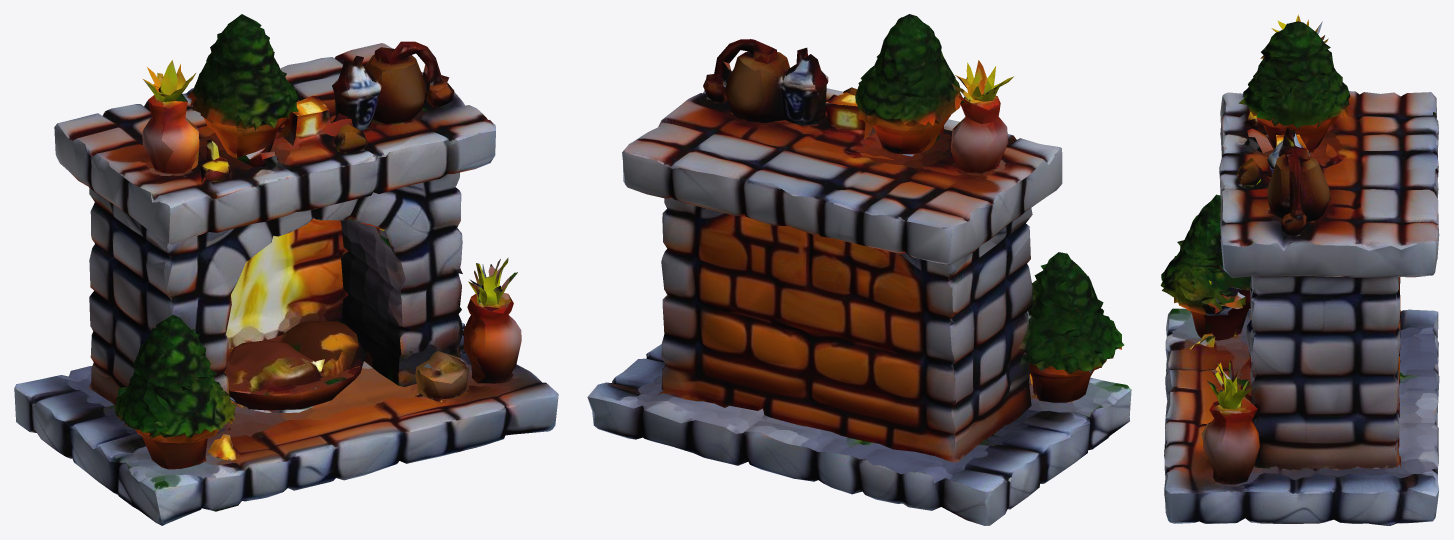
File: fireplace.glb
3 views of the same model, side by side, from view 1: azimuth 30°, elevation 25°; view 2: azimuth 150°, elevation 25°; view 3: azimuth 270°, elevation 25° (orthographic). The views are drawn at different scales.
Parts seen in each view (by area): view 1: fireplace; view 2: fireplace; view 3: fireplace.
Boxes of the visible parts, x1,y1,x2,y2 form: fireplace: (14, 14, 558, 525); fireplace: (587, 14, 1131, 525); fireplace: (1160, 14, 1439, 525).
Size of the model in its own units: 1 by 0.9879 by 0.6349.
Materials: 1 (1 with a texture image).
